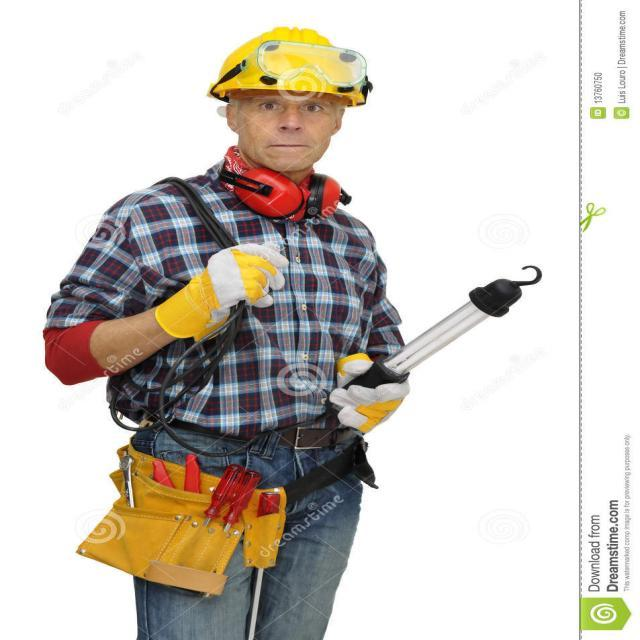safety_helmet: (205, 24, 370, 104)
